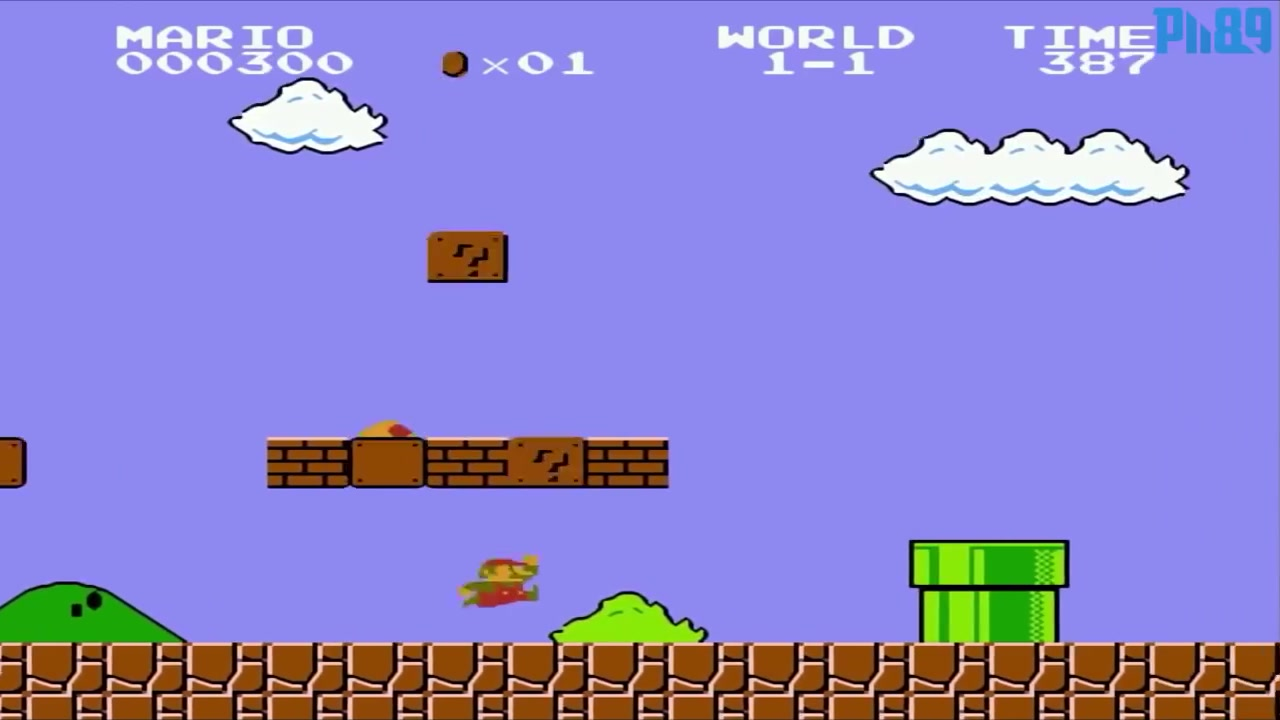mario: (453, 547, 546, 616)
